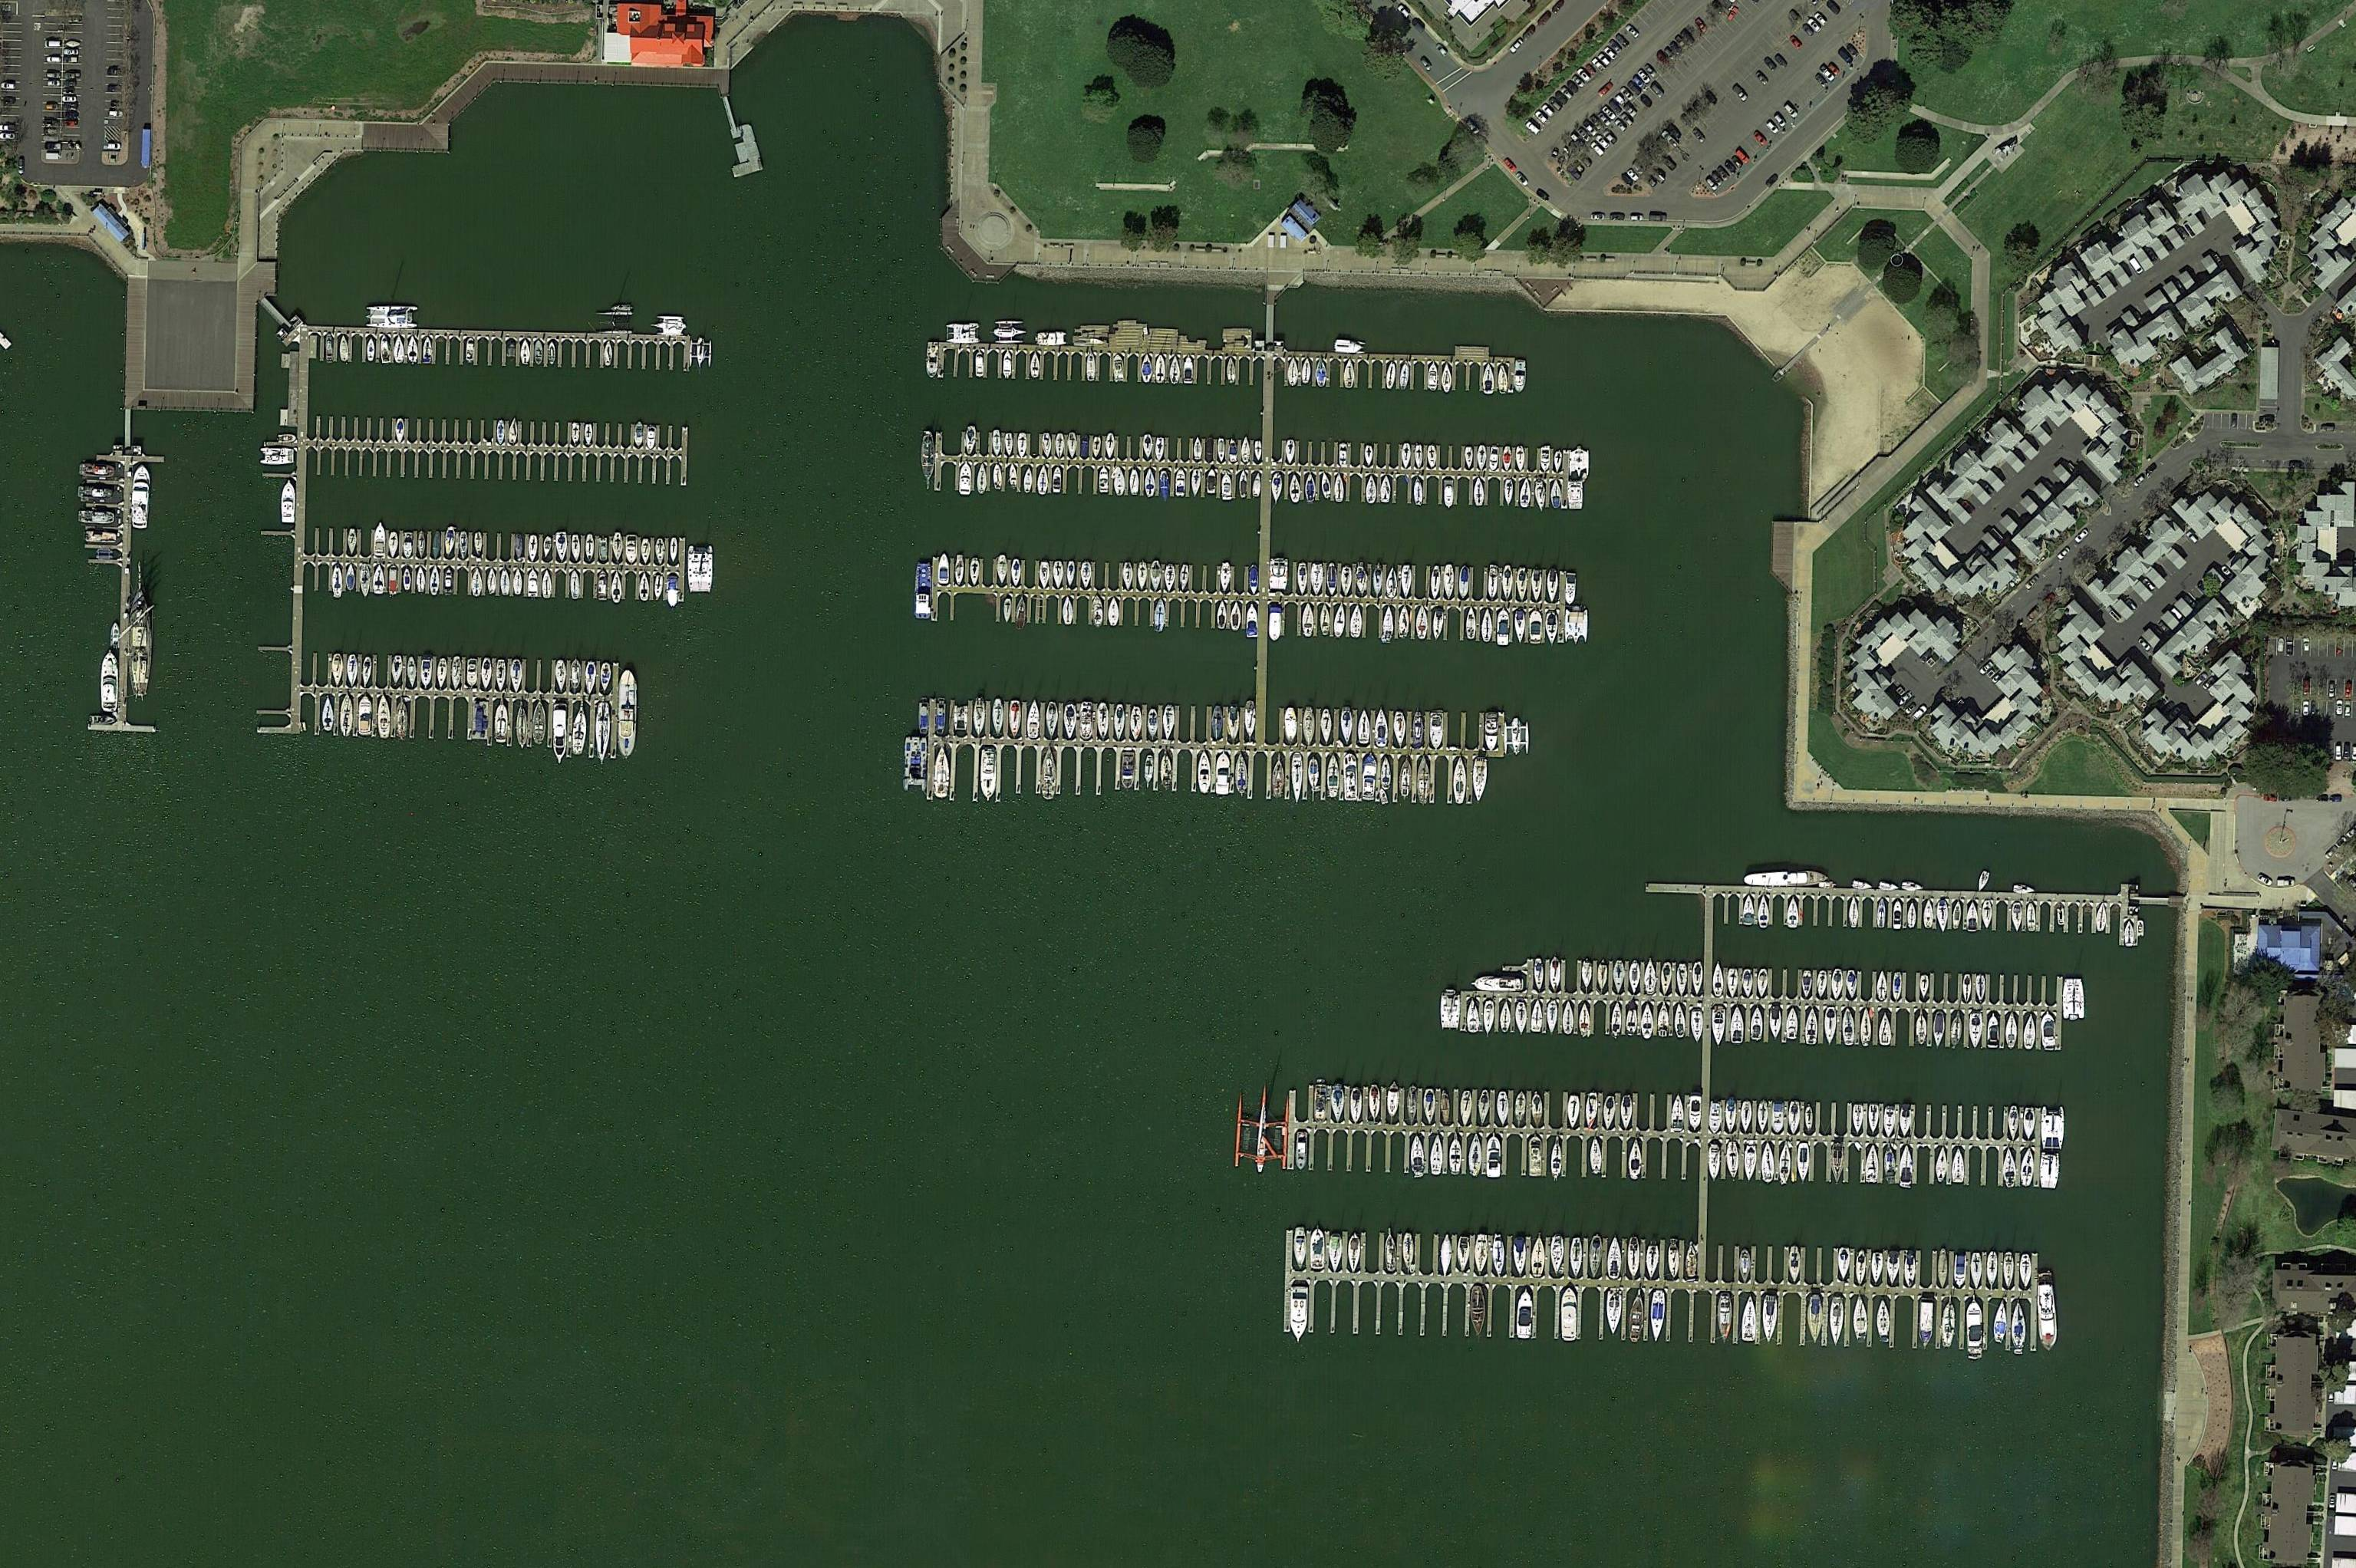harbor: (1281, 1230, 2039, 1351), (1287, 1083, 2044, 1186), (926, 700, 1507, 815), (1460, 955, 2064, 1048), (931, 556, 1567, 644), (933, 432, 1572, 511), (313, 653, 620, 758), (938, 341, 1518, 394), (303, 527, 686, 600), (67, 453, 166, 731), (1645, 882, 2121, 940), (308, 415, 690, 486), (256, 408, 308, 735), (714, 91, 765, 178)
ship: (128, 560, 156, 703), (2036, 1272, 2058, 1351), (618, 670, 637, 759), (1743, 870, 1829, 889), (903, 737, 928, 793), (131, 467, 152, 530), (366, 304, 418, 329), (688, 546, 714, 593), (100, 651, 119, 712), (914, 562, 933, 621), (1290, 1286, 1309, 1344), (1469, 1283, 1490, 1335), (1966, 1298, 1983, 1361), (1560, 1286, 1579, 1342), (1514, 1288, 1535, 1339), (1040, 745, 1059, 800), (933, 745, 952, 798), (1504, 717, 1530, 756), (2044, 1108, 2067, 1151), (595, 703, 611, 766), (919, 429, 935, 492), (553, 703, 569, 765), (1715, 1293, 1735, 1342), (1565, 604, 1588, 644), (1360, 751, 1378, 801), (2011, 1300, 2027, 1356), (2039, 1151, 2062, 1190), (1806, 1295, 1824, 1344), (1827, 1297, 1845, 1346), (1852, 1295, 1869, 1344), (1630, 1288, 1645, 1342), (980, 749, 996, 801), (2064, 980, 2085, 1018), (1939, 1298, 1955, 1349), (1651, 1290, 1666, 1340), (572, 709, 590, 754), (1742, 1295, 1759, 1340), (1451, 758, 1469, 803), (1607, 1288, 1623, 1337), (1763, 1295, 1778, 1344), (1416, 756, 1432, 805), (280, 479, 298, 523), (532, 702, 550, 745), (690, 336, 712, 369), (1918, 1302, 1934, 1349), (1470, 976, 1523, 990), (1472, 758, 1488, 803), (1292, 752, 1306, 803), (653, 315, 686, 336), (994, 322, 1027, 343), (1292, 1227, 1308, 1270), (1486, 1134, 1502, 1178), (1607, 1237, 1623, 1281), (1197, 751, 1213, 794), (1712, 1004, 1728, 1048), (945, 324, 980, 343), (1568, 448, 1589, 479), (394, 696, 410, 738), (357, 693, 373, 735), (376, 696, 392, 738), (1467, 1134, 1483, 1176), (1628, 1137, 1644, 1179), (1549, 1234, 1565, 1276), (1344, 752, 1358, 800), (1313, 1080, 1329, 1122), (79, 462, 116, 479), (1308, 758, 1322, 803), (338, 695, 354, 735), (473, 700, 488, 740), (2020, 1146, 2036, 1186), (1271, 756, 1287, 796), (2041, 1011, 2057, 1052), (259, 448, 294, 465), (1899, 1144, 1913, 1188), (1311, 1225, 1325, 1269), (1491, 1234, 1505, 1277), (1778, 1141, 1792, 1185), (1994, 1300, 2008, 1344), (1628, 1237, 1642, 1281), (1876, 1298, 1890, 1342), (1026, 700, 1041, 738), (1269, 558, 1288, 590), (1120, 752, 1136, 791), (1374, 709, 1390, 747), (2022, 1011, 2037, 1050), (1294, 1132, 1309, 1171), (1532, 1235, 1546, 1277), (1411, 1136, 1425, 1178), (1448, 1134, 1462, 1176), (1761, 1141, 1775, 1183), (1217, 752, 1231, 794), (79, 485, 112, 502), (1864, 1146, 1880, 1183), (924, 343, 940, 380), (1950, 1011, 1966, 1048), (1831, 1143, 1845, 1183), (2002, 1148, 2016, 1188), (1383, 1232, 1397, 1272), (1514, 1237, 1528, 1277), (1796, 1143, 1810, 1183), (1430, 1136, 1444, 1176), (1399, 759, 1413, 800), (1302, 707, 1316, 747), (1932, 1008, 1946, 1048), (1731, 1004, 1745, 1045), (1589, 1234, 1602, 1279), (1327, 752, 1339, 798), (1283, 709, 1299, 744), (1008, 700, 1022, 738), (1497, 607, 1511, 646), (1477, 1088, 1491, 1127), (1987, 1251, 2001, 1290), (1160, 752, 1174, 791), (1411, 709, 1425, 747), (1430, 712, 1444, 751), (2004, 1011, 2018, 1050), (1386, 1081, 1400, 1120), (1267, 607, 1283, 640), (1045, 703, 1059, 740), (1064, 703, 1078, 740), (1080, 703, 1094, 740), (373, 521, 387, 558), (1934, 1146, 1948, 1183), (1441, 1235, 1453, 1277), (1456, 1235, 1470, 1272), (1530, 1134, 1542, 1176), (1708, 1144, 1722, 1181), (1743, 1144, 1757, 1181), (1570, 1237, 1582, 1279), (1668, 1242, 1682, 1279), (1458, 1090, 1472, 1127), (1236, 752, 1248, 794), (1484, 714, 1498, 751), (1841, 1008, 1855, 1045), (1969, 1013, 1983, 1050), (1332, 1085, 1346, 1122), (1350, 1087, 1364, 1123), (1145, 709, 1160, 740), (1551, 1134, 1561, 1181), (1336, 339, 1367, 355), (516, 707, 529, 747), (1474, 1235, 1486, 1276), (959, 460, 973, 495), (1301, 602, 1315, 637), (1013, 597, 1027, 632), (1416, 604, 1430, 639), (79, 511, 114, 525), (320, 696, 334, 731), (1567, 1095, 1581, 1130), (1619, 1095, 1633, 1130), (1903, 1253, 1917, 1288), (1162, 705, 1176, 740), (1393, 712, 1407, 747), (1750, 1004, 1764, 1039), (1987, 1013, 2001, 1048), (1423, 1088, 1437, 1123), (1672, 1003, 1686, 1038), (1465, 997, 1479, 1032), (1658, 1001, 1672, 1036), (973, 698, 985, 737), (992, 698, 1005, 737), (495, 703, 508, 742), (1883, 1144, 1896, 1183), (1330, 1234, 1343, 1272), (1348, 1234, 1360, 1272), (1402, 1234, 1414, 1272), (1589, 1136, 1602, 1174), (1728, 1141, 1740, 1179), (1936, 1249, 1948, 1288), (1971, 1251, 1983, 1290), (1824, 1006, 1836, 1045), (1861, 1008, 1873, 1046), (1038, 331, 1068, 346), (1350, 604, 1364, 637), (331, 653, 345, 686), (1952, 1150, 1966, 1183), (1740, 1101, 1754, 1134), (1838, 1248, 1852, 1281), (1757, 896, 1771, 929), (1577, 1003, 1591, 1036), (917, 698, 929, 735), (1113, 703, 1125, 740), (1131, 703, 1143, 740), (1514, 1090, 1526, 1127), (1586, 1092, 1598, 1129), (1603, 1094, 1616, 1130), (1672, 1095, 1684, 1132), (1689, 1094, 1701, 1130), (1789, 1246, 1801, 1283), (1647, 1244, 1659, 1281), (1953, 1251, 1966, 1288), (2020, 1251, 2032, 1288), (1549, 957, 1561, 994), (1341, 709, 1353, 745), (1806, 1008, 1819, 1045), (1915, 1008, 1927, 1045), (1369, 1085, 1381, 1122), (1691, 1008, 1703, 1045), (1645, 959, 1658, 996), (1547, 1001, 1560, 1038), (1642, 1003, 1654, 1039), (1381, 605, 1395, 637), (569, 660, 583, 691), (1771, 1102, 1785, 1134), (1878, 1013, 1892, 1045), (1612, 962, 1626, 994), (938, 551, 950, 586), (1399, 604, 1411, 639), (1432, 605, 1444, 640), (1097, 703, 1110, 738), (1481, 605, 1493, 640), (1546, 611, 1558, 646), (1530, 609, 1542, 644), (1514, 607, 1526, 642), (667, 574, 679, 609), (1899, 1102, 1911, 1137), (2008, 1106, 2020, 1141), (1686, 1242, 1698, 1277), (1497, 1092, 1509, 1127), (1213, 705, 1225, 740), (1358, 709, 1371, 744), (1770, 1004, 1782, 1039), (1691, 961, 1703, 996), (1712, 962, 1724, 997), (1626, 999, 1638, 1034), (1504, 563, 1514, 604), (1407, 1085, 1418, 1125), (994, 555, 1008, 584), (1514, 360, 1526, 394), (1334, 604, 1346, 637), (1246, 604, 1259, 637), (1153, 598, 1166, 632), (1092, 595, 1104, 628), (1297, 562, 1309, 595), (1327, 563, 1339, 597), (1357, 563, 1369, 597), (1430, 565, 1442, 598), (1547, 570, 1560, 604), (450, 656, 462, 689), (511, 660, 523, 693), (585, 661, 597, 695), (436, 656, 448, 689), (2023, 1106, 2036, 1139), (1789, 1101, 1801, 1134), (1710, 1101, 1722, 1134), (1724, 1099, 1736, 1132), (1757, 1101, 1770, 1134), (1871, 1251, 1883, 1284), (1887, 1253, 1899, 1286), (1936, 899, 1948, 933), (1787, 1006, 1799, 1039), (1563, 1001, 1575, 1034), (1610, 1001, 1623, 1034), (1855, 1249, 1866, 1288), (1974, 870, 1992, 892), (1379, 476, 1393, 504), (1568, 481, 1582, 509), (1801, 969, 1815, 997), (1159, 471, 1171, 502), (1535, 479, 1547, 511), (977, 464, 989, 495), (1038, 464, 1050, 495), (1318, 604, 1330, 635), (1465, 604, 1476, 640), (1150, 560, 1162, 591), (1220, 562, 1232, 593), (1311, 563, 1323, 595), (1386, 567, 1399, 598), (331, 565, 343, 597), (86, 532, 117, 544), (480, 658, 492, 689), (495, 660, 508, 691), (555, 660, 567, 691), (406, 656, 418, 688), (1532, 1092, 1542, 1129), (1483, 364, 1495, 395), (2004, 1251, 2015, 1288), (1787, 898, 1799, 929), (1847, 896, 1859, 927), (1245, 702, 1255, 738), (1322, 709, 1332, 745), (1581, 961, 1593, 992), (1441, 1088, 1451, 1125), (1628, 962, 1640, 994), (1659, 964, 1672, 996), (1831, 968, 1843, 999), (1444, 565, 1455, 600), (1518, 567, 1528, 602), (1740, 1248, 1750, 1283), (1381, 756, 1392, 791), (1145, 754, 1155, 789), (1484, 1001, 1495, 1036), (1516, 1001, 1526, 1036), (1238, 469, 1250, 499), (1271, 472, 1283, 502), (1304, 472, 1316, 502), (1365, 474, 1378, 504), (1411, 476, 1423, 506), (1519, 478, 1532, 507), (1549, 479, 1561, 509), (1010, 558, 1022, 588), (1127, 467, 1139, 497), (1062, 597, 1075, 626), (1138, 562, 1150, 591), (1341, 567, 1353, 597), (627, 535, 639, 565), (429, 565, 441, 595), (471, 567, 483, 597), (466, 658, 478, 688), (600, 663, 613, 693), (597, 569, 609, 598), (1883, 1108, 1896, 1137), (1169, 355, 1182, 385), (1981, 899, 1994, 929), (2011, 903, 2023, 933), (2095, 903, 2107, 933), (1876, 971, 1889, 1001), (1498, 1001, 1511, 1031), (1402, 565, 1413, 598), (1460, 565, 1470, 598), (1488, 565, 1498, 598), (1532, 569, 1542, 602), (557, 530, 567, 563), (347, 654, 357, 688), (1229, 707, 1239, 740), (1174, 469, 1187, 497), (1288, 476, 1301, 504), (1474, 478, 1486, 506), (1038, 562, 1050, 590), (1052, 560, 1064, 588), (1145, 469, 1157, 497), (1113, 467, 1125, 495), (1231, 602, 1243, 630), (954, 705, 968, 730), (1164, 565, 1176, 593), (373, 565, 385, 593), (527, 569, 539, 597), (422, 336, 434, 364), (1852, 1104, 1864, 1132), (1952, 901, 1964, 929), (1847, 969, 1859, 997), (1728, 969, 1740, 997), (1757, 969, 1770, 997), (954, 555, 964, 586), (613, 532, 623, 563), (611, 572, 621, 604), (1868, 1104, 1878, 1136), (1344, 359, 1355, 390), (1743, 894, 1754, 926), (1535, 959, 1546, 990), (1677, 964, 1687, 996), (1532, 999, 1542, 1031), (1320, 472, 1332, 499), (1097, 467, 1110, 493), (1122, 563, 1134, 590), (936, 700, 945, 737), (338, 336, 350, 362), (1113, 355, 1125, 381), (1852, 878, 1878, 891), (1334, 472, 1344, 502), (1444, 479, 1455, 509), (1108, 597, 1118, 626), (1567, 574, 1577, 604), (389, 565, 399, 595), (422, 660, 432, 689), (966, 425, 977, 455), (543, 569, 553, 598), (641, 572, 651, 602), (324, 332, 334, 362), (392, 654, 403, 684), (362, 658, 373, 688), (1183, 355, 1194, 385), (1288, 357, 1299, 387), (1400, 360, 1411, 390), (1428, 362, 1439, 392), (1442, 362, 1453, 392), (1967, 901, 1978, 931), (1960, 973, 1971, 1003), (1598, 961, 1609, 990), (1892, 971, 1903, 1001), (403, 534, 415, 558), (653, 576, 665, 600), (2013, 884, 2037, 896), (1498, 366, 1509, 394), (1190, 469, 1201, 497), (1222, 472, 1232, 500), (1504, 479, 1514, 507), (970, 558, 980, 586), (1540, 444, 1551, 472), (1248, 567, 1259, 595), (417, 530, 427, 558), (445, 528, 455, 556), (641, 537, 651, 565), (443, 567, 453, 595), (109, 621, 119, 649), (569, 570, 579, 598), (380, 336, 390, 364), (408, 336, 418, 364), (1141, 355, 1152, 383), (1003, 350, 1013, 378), (1225, 357, 1236, 385), (1316, 359, 1327, 387), (1386, 360, 1397, 388), (1924, 899, 1934, 927), (2027, 903, 2037, 931), (1743, 969, 1754, 997), (1817, 969, 1827, 997), (541, 535, 553, 558), (520, 341, 532, 364), (1878, 880, 1901, 892), (1206, 469, 1217, 495), (1502, 446, 1512, 472), (1516, 446, 1526, 472), (992, 464, 1003, 490), (1052, 467, 1062, 493), (1082, 563, 1092, 590), (1217, 602, 1227, 628), (1180, 565, 1190, 591), (389, 532, 399, 558), (515, 534, 525, 560), (655, 539, 665, 565), (361, 565, 369, 597), (394, 336, 404, 362), (534, 339, 544, 366), (1087, 352, 1096, 383), (1302, 359, 1313, 385), (2125, 920, 2135, 947), (1878, 898, 1887, 927), (1894, 899, 1903, 929), (1976, 973, 1985, 1003), (1337, 443, 1348, 467), (1477, 444, 1488, 469), (1553, 450, 1563, 474), (1022, 467, 1033, 492), (599, 537, 609, 562), (669, 539, 679, 563), (646, 425, 656, 450), (991, 430, 1001, 455), (1041, 434, 1052, 458), (1920, 975, 1931, 999), (1374, 567, 1383, 595), (1068, 432, 1076, 460), (432, 532, 441, 560), (459, 532, 467, 560), (586, 534, 595, 562), (348, 528, 357, 556), (347, 563, 355, 591), (488, 567, 497, 595), (1019, 432, 1027, 460), (1157, 355, 1166, 383), (1252, 474, 1262, 497), (602, 343, 613, 366), (1903, 880, 1925, 891), (1490, 446, 1498, 472), (1008, 464, 1017, 490), (1003, 598, 1012, 625), (1106, 432, 1115, 458), (529, 535, 537, 562), (417, 567, 425, 593), (635, 422, 644, 448), (509, 416, 518, 443), (501, 570, 509, 597), (513, 569, 522, 595), (1031, 352, 1040, 378), (1908, 903, 1917, 929), (366, 339, 376, 360), (506, 341, 516, 362), (2055, 905, 2065, 926), (1143, 434, 1152, 458), (1287, 441, 1295, 465), (1402, 443, 1411, 467), (572, 535, 581, 560), (403, 567, 411, 591), (396, 418, 404, 443), (497, 420, 506, 444), (1055, 434, 1064, 458), (466, 338, 474, 362), (278, 434, 298, 444), (1194, 437, 1203, 460), (1414, 444, 1423, 467), (1428, 446, 1437, 469), (1092, 436, 1101, 458), (474, 532, 483, 555), (1005, 434, 1013, 457), (548, 343, 557, 366), (1068, 560, 1075, 588), (1806, 1104, 1813, 1132), (1465, 448, 1474, 469), (1243, 436, 1250, 462), (1253, 441, 1262, 462), (1365, 444, 1374, 465), (585, 423, 593, 444), (977, 350, 984, 376), (1157, 437, 1164, 462), (1218, 439, 1225, 464), (1231, 439, 1238, 462), (572, 423, 579, 446), (1379, 789, 1388, 807)
